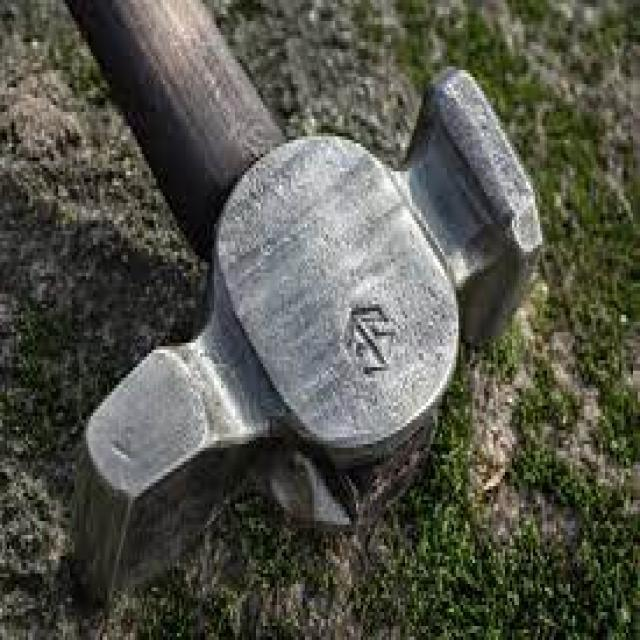hammer: (62, 0, 550, 612)
